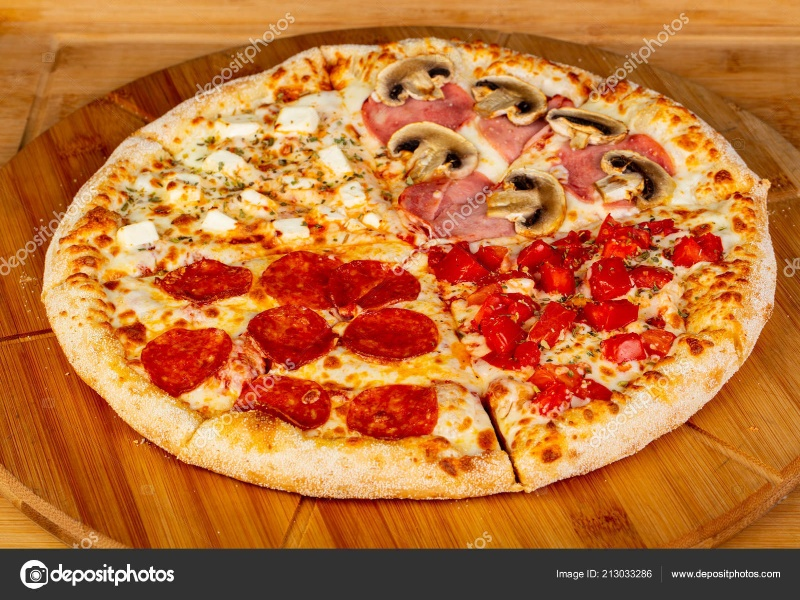pepperonis: (132, 318, 231, 391), (344, 381, 445, 441), (250, 298, 326, 369), (332, 253, 428, 308), (340, 310, 445, 360), (248, 365, 328, 425), (261, 248, 334, 308), (163, 262, 254, 304)
